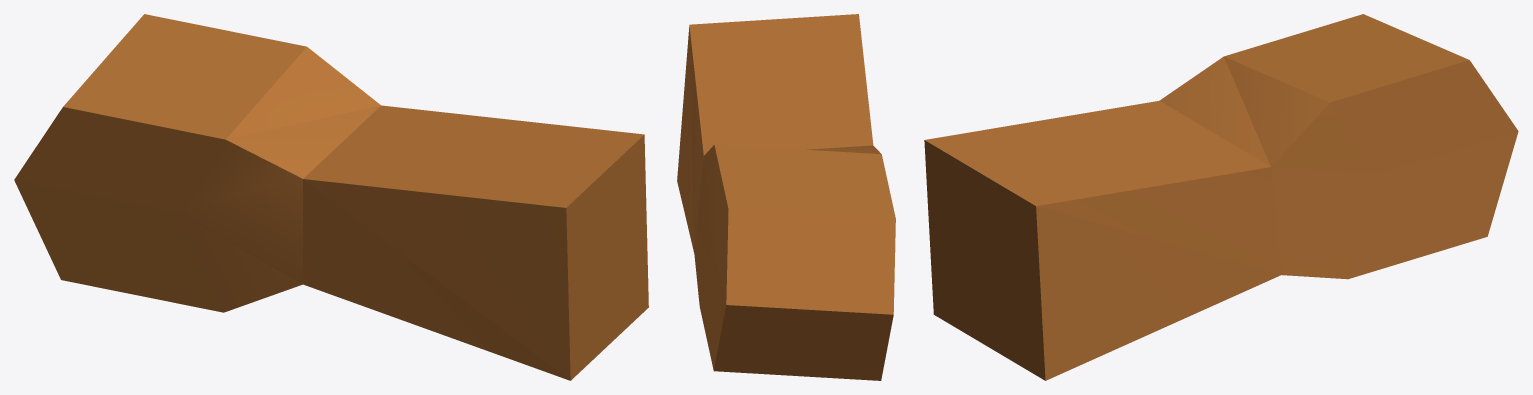
Rendered from copper_hammer_head.glb.
3 views of the same model, side by side, from view 1: azimuth 30°, elevation 25°; view 2: azimuth 150°, elevation 25°; view 3: azimuth 270°, elevation 25° (orthographic). The views are drawn at different scales.
Parts seen in each view (by area): view 1: copper_hammer_head; view 2: copper_hammer_head; view 3: copper_hammer_head.
Boxes of the visible parts, x1,y1,x2,y2 form: copper_hammer_head: (14,14,648,380); copper_hammer_head: (677,14,895,380); copper_hammer_head: (924,14,1518,380).
Bounding box in the file's own units: 0.1197 × 0.0521 × 0.1462.
